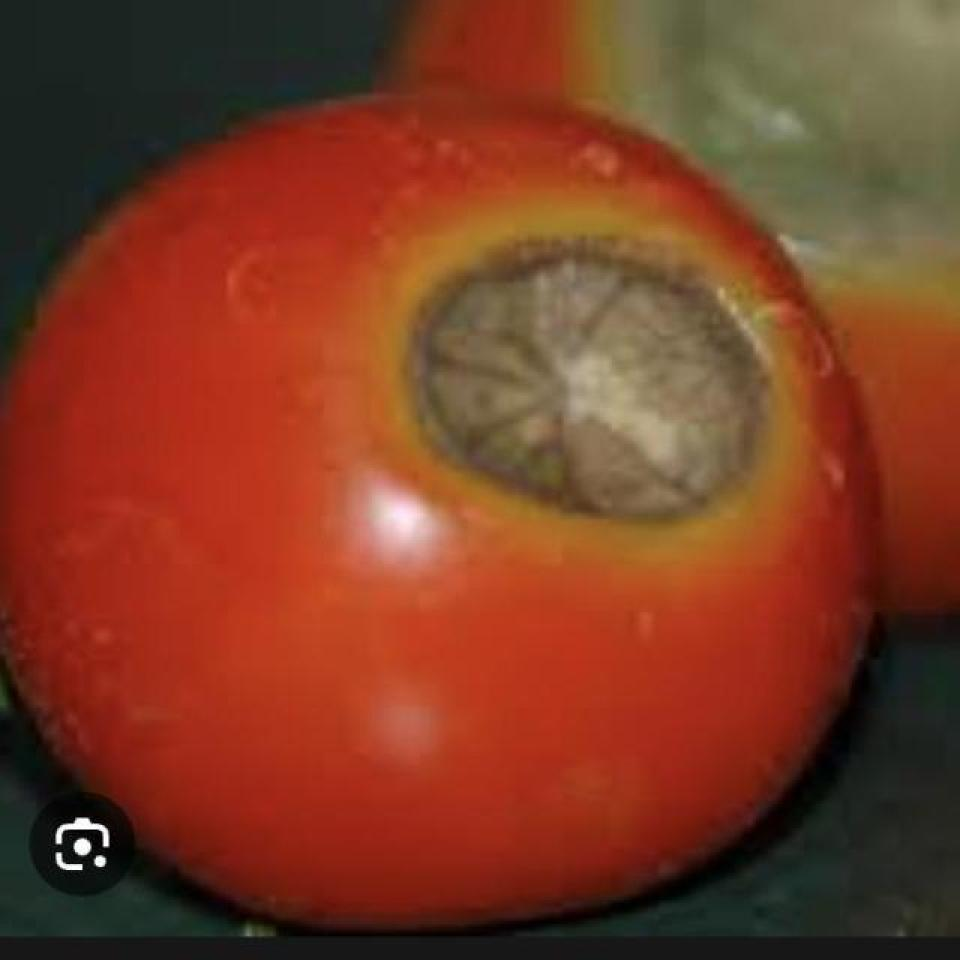Blossom_end_rot: (389, 210, 795, 550), (578, 0, 959, 284)
